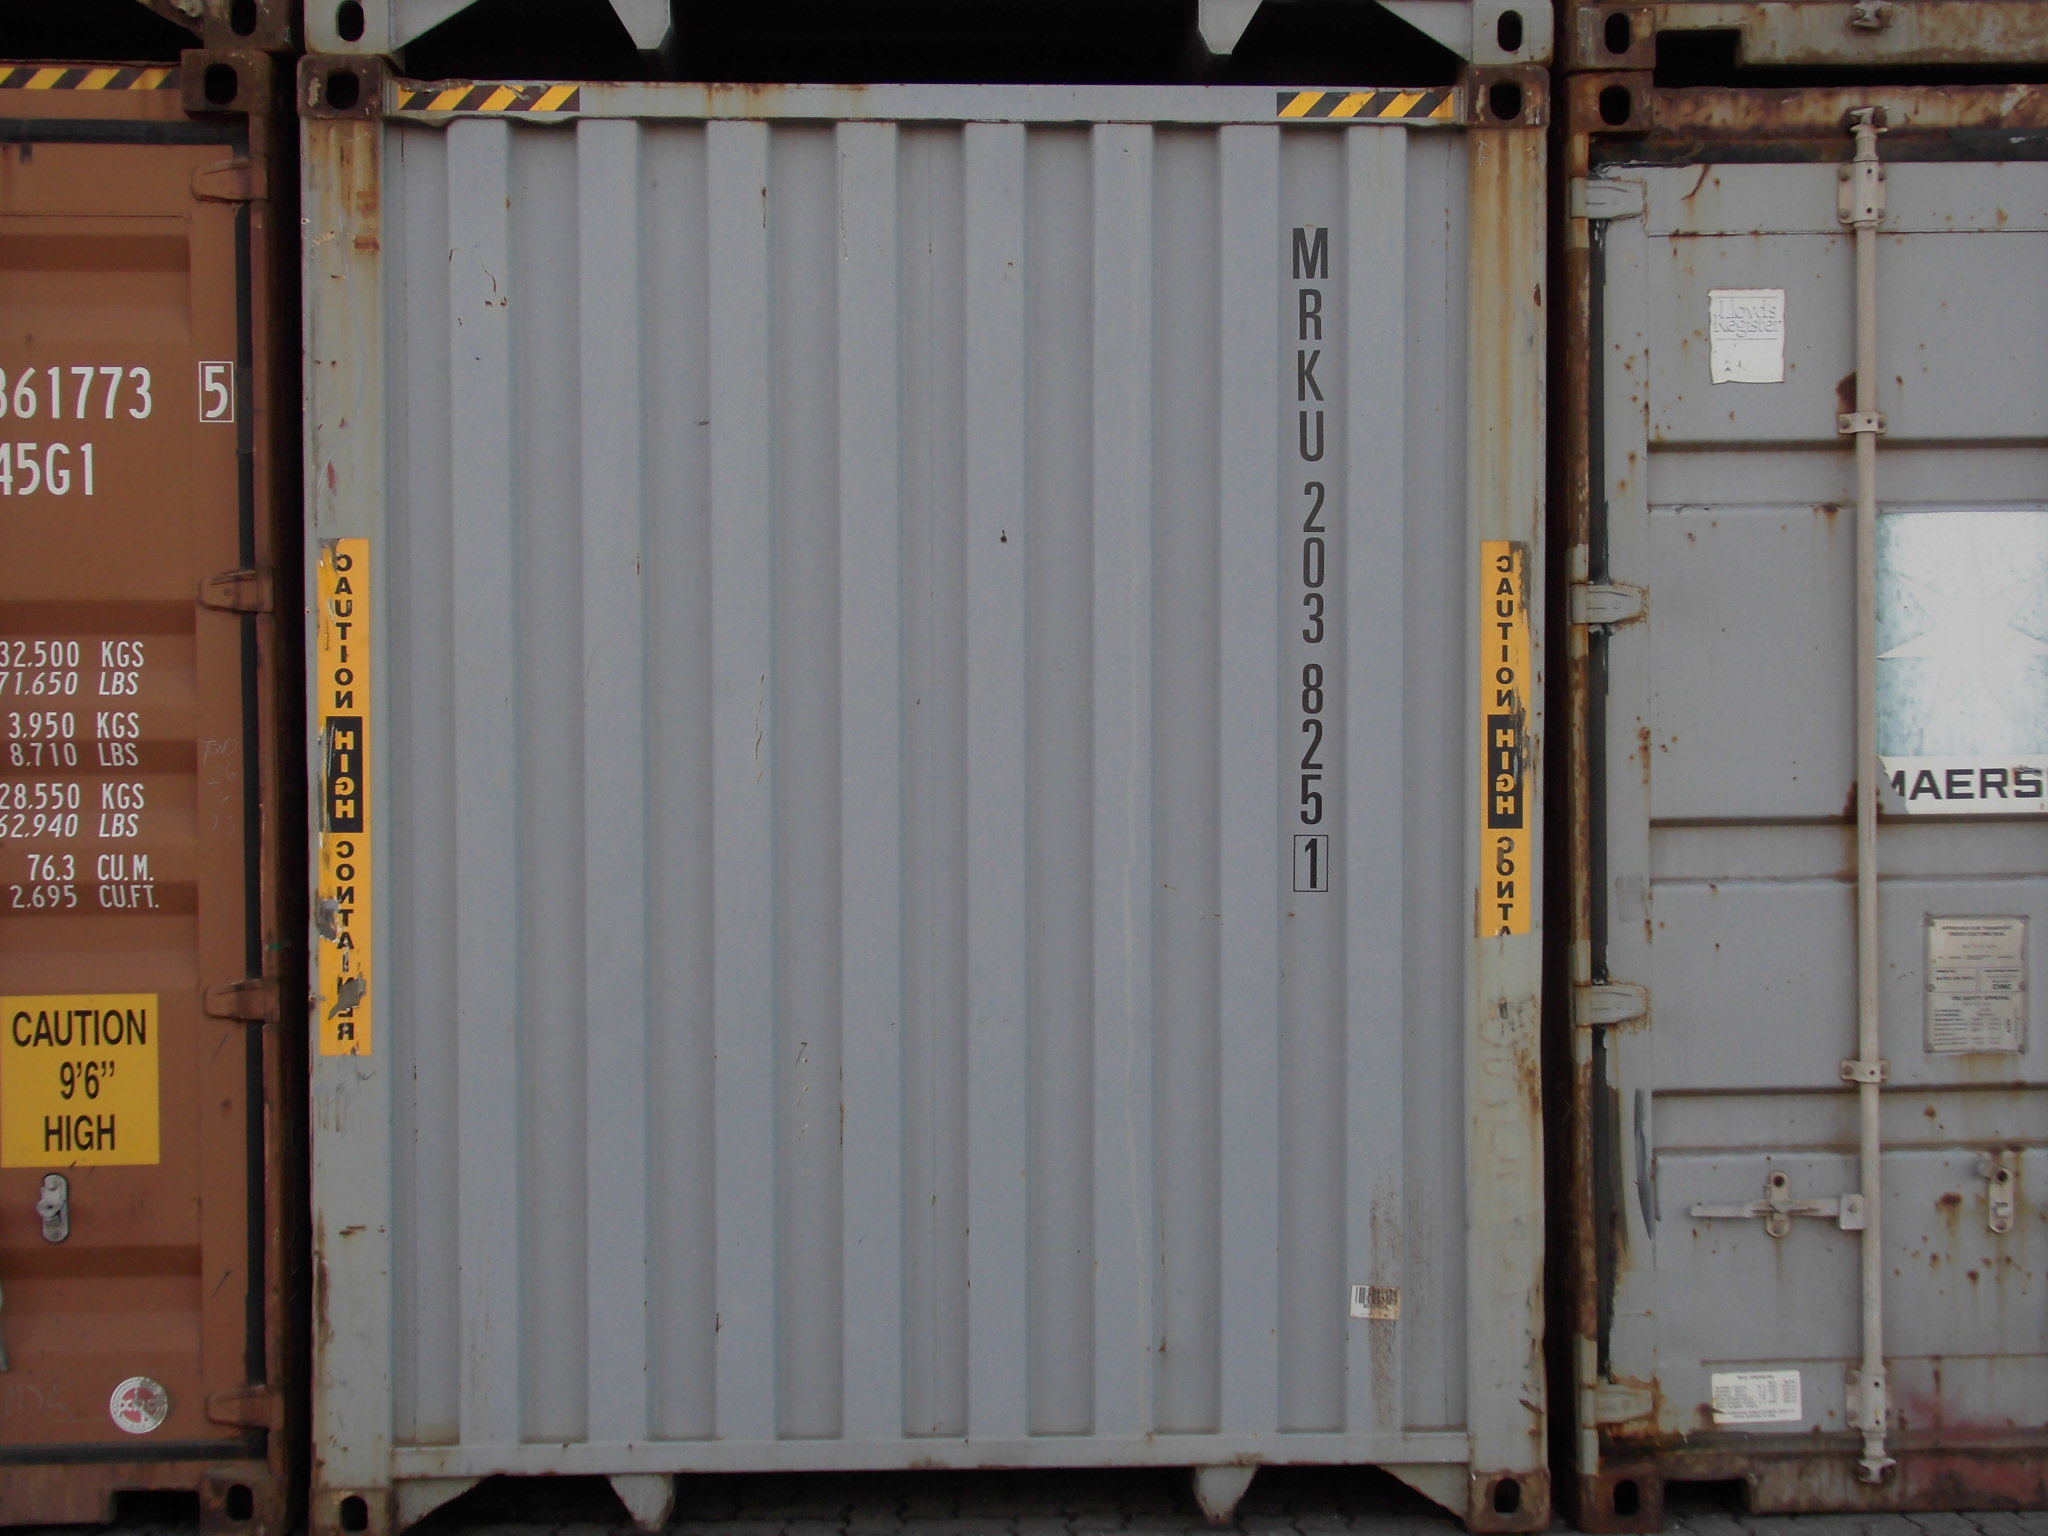container_no_door: (310, 60, 1542, 1518)
